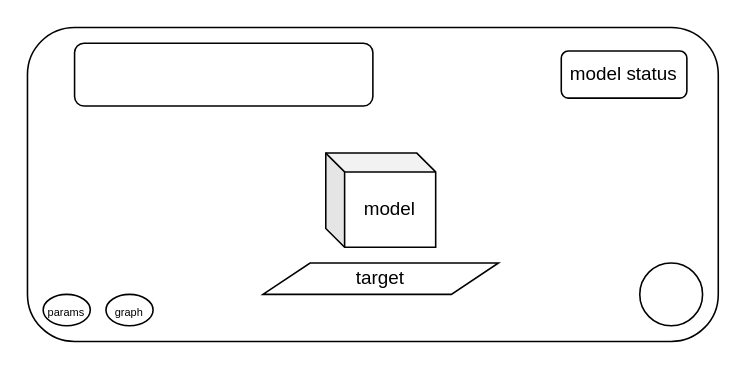
Image size: 746x369. Some labels were removed from this diagram. Here are the shapes that lost their labels. From the top down, the centre of each, then its label:
At pixel 223 74: "Name".
At pixel 670 293: "back".
